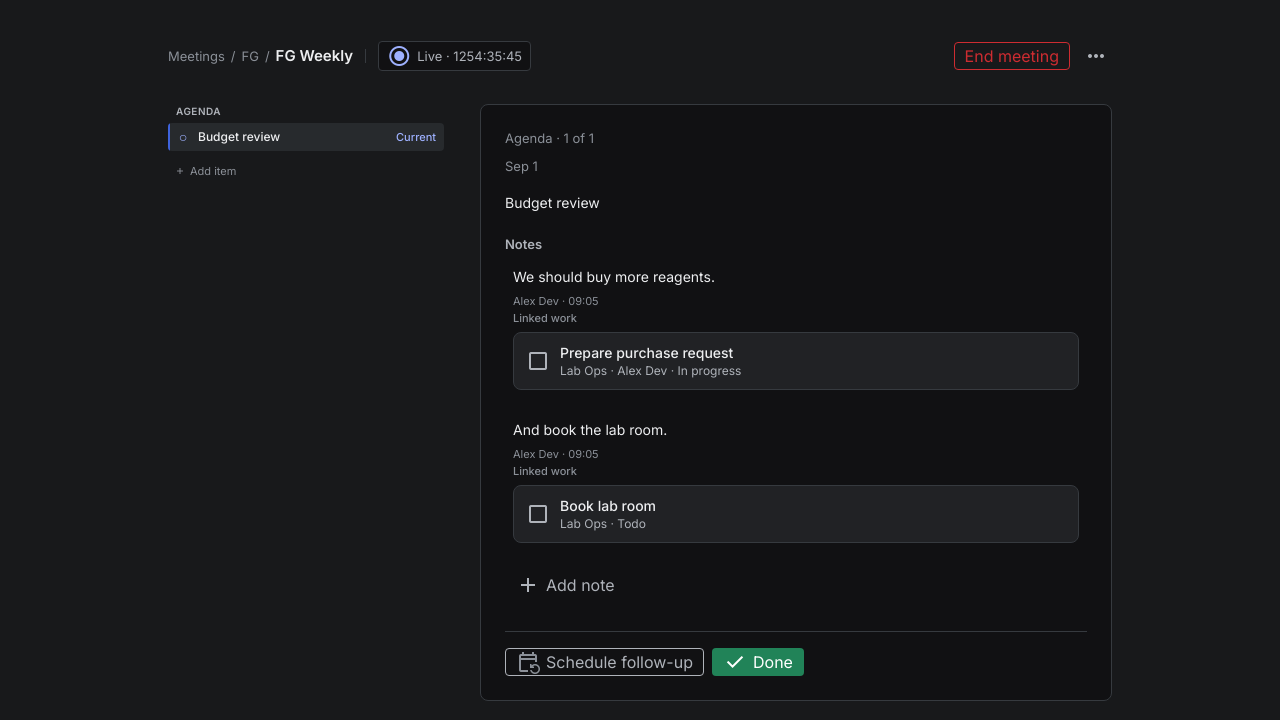
Test case: Meeting Inspector stale PATCH response reconciliation › keeps the newly opened Work Item displayed when a delayed A-PATCH response arrives after an A -> B switch
Check: the button "End meeting" is shown, box [954,42,1070,70]
Step 1. Click the button "Prepare purchase request Lab Ops · Alex Dev · In progress" → (647, 352), box [513,332,1079,390]
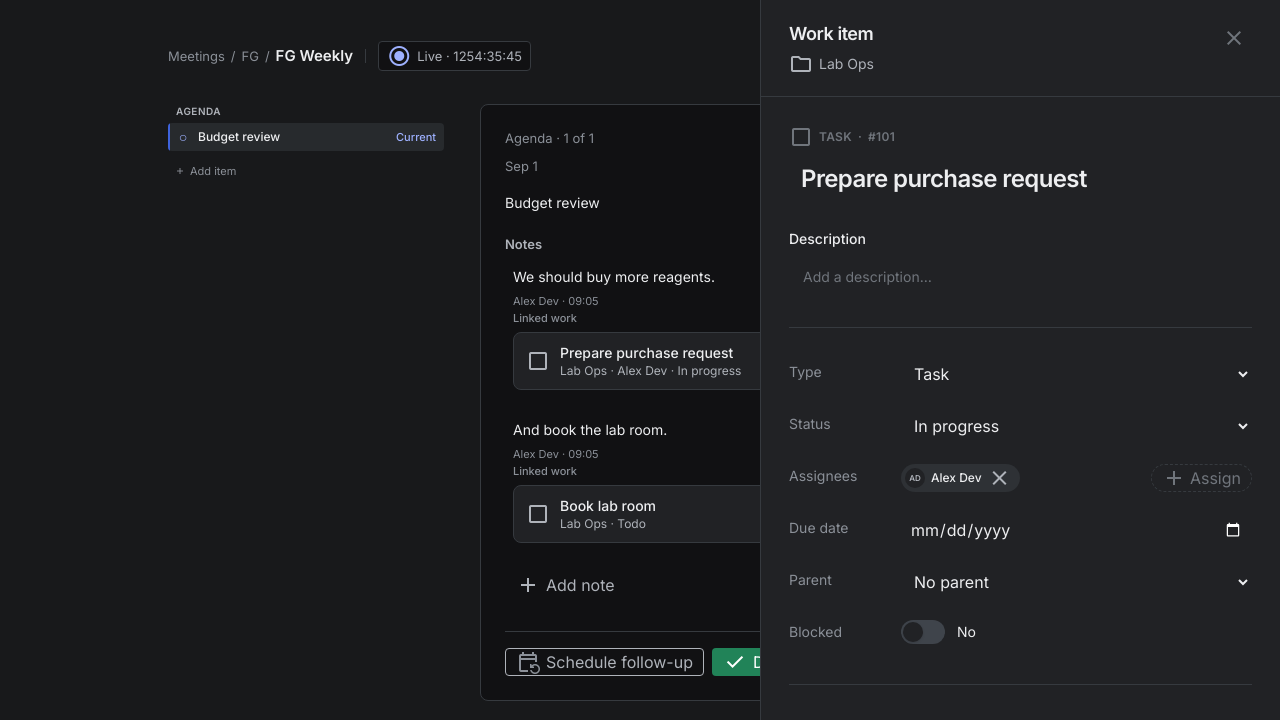
Check: the element "Work item" is shown, box [760,0,1279,719]
Check: the button "Prepare purchase request" is shown, box [801,164,1087,193]
Check: the dropdown named "Status" shows "In progress"
Step 2. Select "Todo" in the dropdown named "Status" → (1076, 426), box [901,408,1252,444]
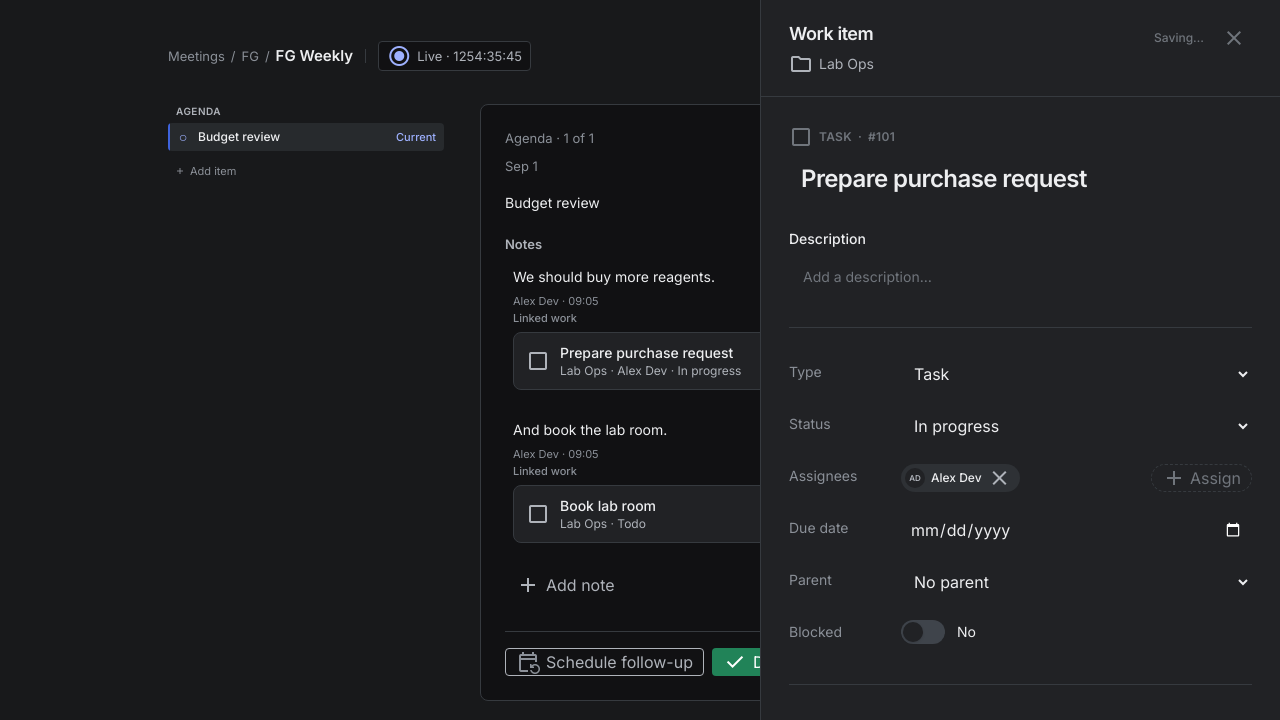
Step 3. Click the button "Book lab room Lab Ops · Todo" → (608, 506), box [513,485,1079,543]
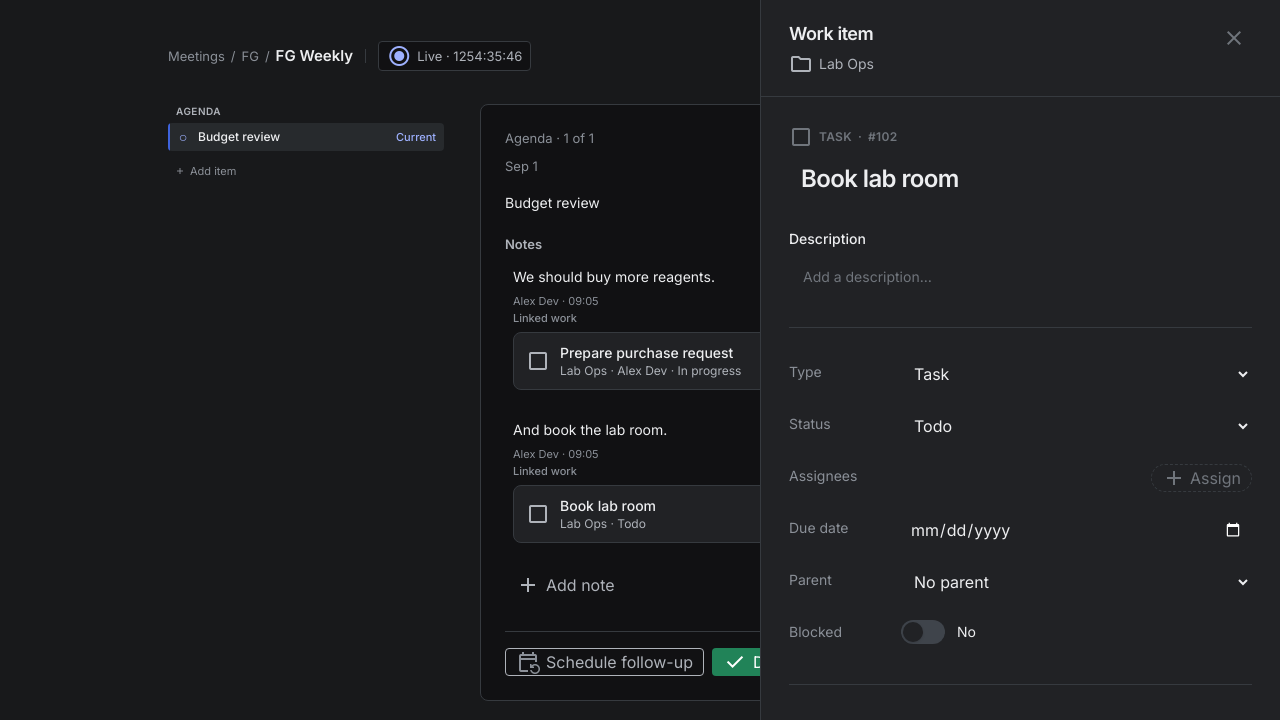
Check: the button "Book lab room" is shown, box [801,164,959,193]
Check: the dropdown named "Status" shows "Todo", box [901,408,1252,444]
